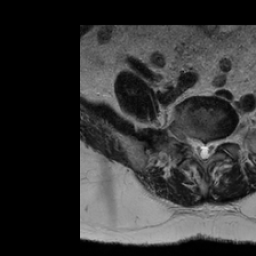CCS_normal: (200, 134, 208, 165)
LFS_stenosis: (218, 129, 226, 150)
LLS_normal: (208, 135, 217, 163)
RFS_normal: (179, 128, 191, 149)
RLS_normal: (191, 133, 200, 164)
